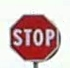stop: (9, 12, 59, 61)
